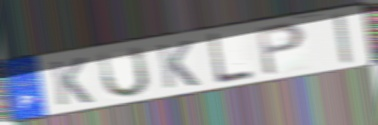I: (332, 10, 355, 67)
K: (155, 39, 202, 91), (49, 56, 96, 108)
L: (206, 31, 255, 87)
P: (255, 20, 308, 78)
U: (97, 44, 152, 100)
